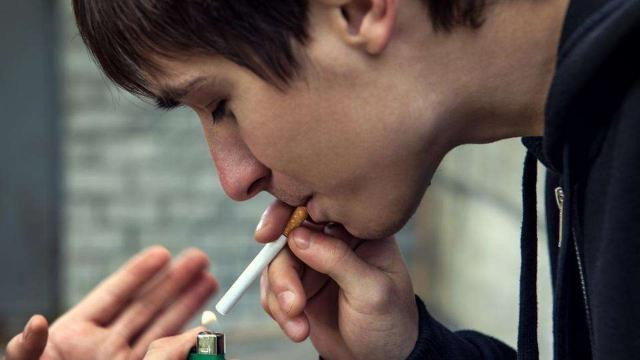Cigarette: (210, 201, 304, 315)
